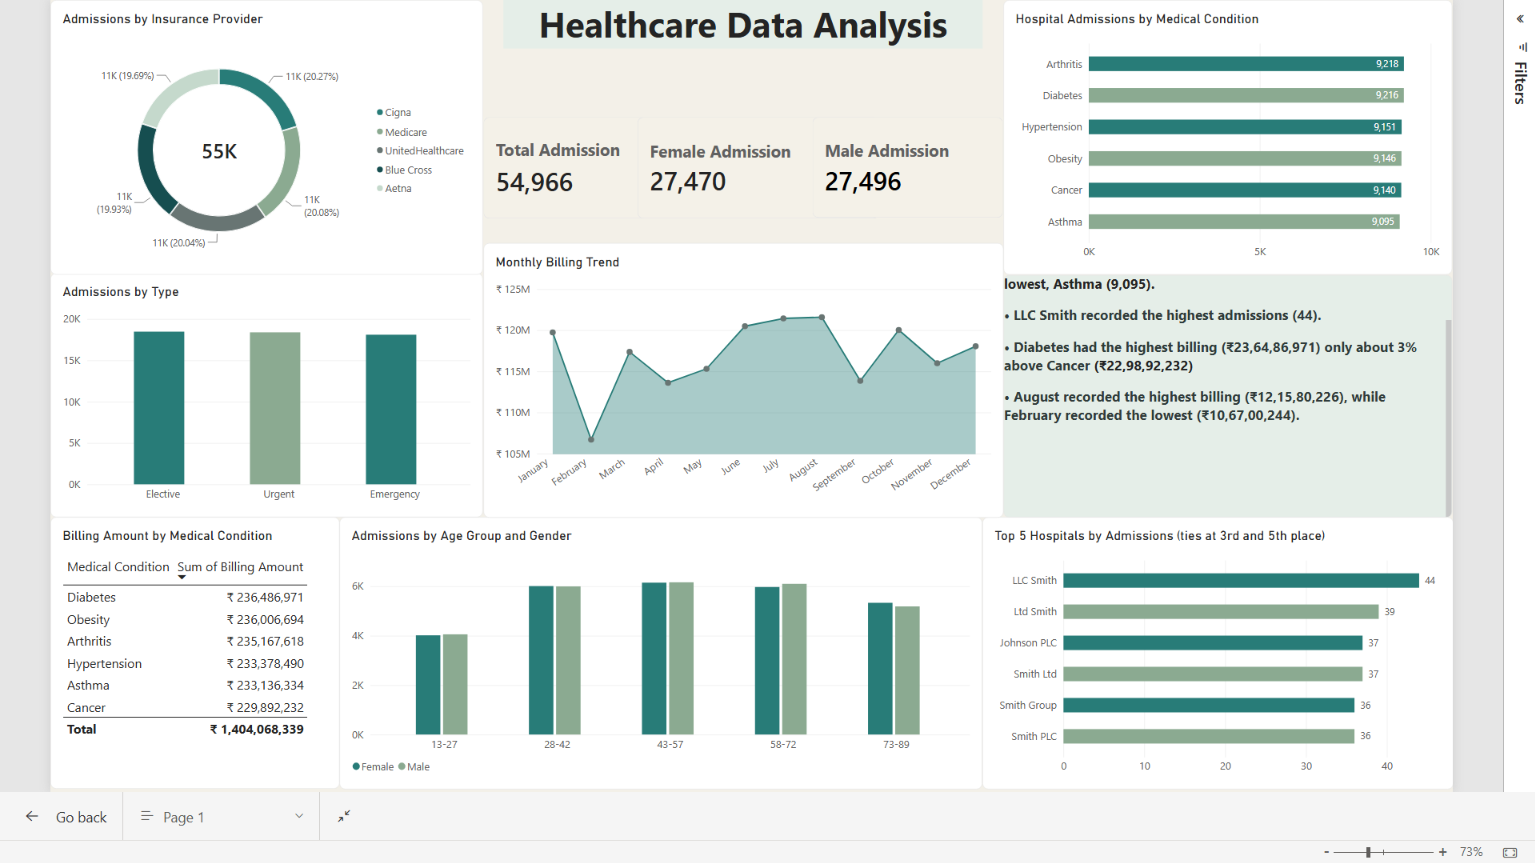

What the dashboard file says about the page in this screenshot:
{"tool":"powerbi","page":{"name":"Page 1","canvas":[1920,1084],"ordinal":0},"visuals":[{"type":"clusteredBarChart","title":"Hospital Admissions by Medical Condition","fields":{"Category":["healthcare_dataset.Medical Condition"],"Y":["healthcare_dataset.Total_Admission"]},"box":[1304.4,0,614,376],"z":0},{"type":"cardVisual","fields":{"Data":["healthcare_dataset.Total_Admission"]},"box":[592,160,225.5,139.7],"z":0,"group":"g1"},{"type":"group","id":"g1","title":"Group 1","box":[592,160,542.4,140],"z":0,"group":"g3"},{"type":"cardVisual","fields":{"Data":["healthcare_dataset.Male Admission"]},"box":[1042.4,160,261.6,138.5],"z":0,"group":"g2"},{"type":"group","id":"g2","title":"Group 1","box":[1042.4,160,261.6,138.5],"z":1000,"group":"g3"},{"type":"cardVisual","fields":{"Data":["healthcare_dataset.Female Admission"]},"box":[803.3,160.2,331.1,139.8],"z":1000,"group":"g1"},{"type":"clusteredColumnChart","title":"Admissions by Age Group and Gender","fields":{"Category":["healthcare_dataset.73-89"],"Series":["healthcare_dataset.Gender"],"Y":["healthcare_dataset.Total_Admission"]},"box":[395,707.5,880,372.5],"z":1000},{"type":"columnChart","title":"Admissions by Type","fields":{"Category":["healthcare_dataset.Admission Type"],"Y":["healthcare_dataset.Total_Admission"]},"box":[0,374,592,334],"z":2000},{"type":"clusteredBarChart","title":"Top 5 Hospitals by Admissions (ties at 3rd and 5th place)","fields":{"Category":["healthcare_dataset.Hospital"],"Y":["healthcare_dataset.Total_Admission"]},"box":[1275,707.5,645,372.5],"z":3000},{"type":"tableEx","title":"Billing Amount by Medical Condition","fields":{"Values":["healthcare_dataset.Medical Condition","Sum(healthcare_dataset.Billing Amount)"]},"box":[0,708,396,372],"z":4000},{"type":"donutChart","title":"Admissions by Insurance Provider","fields":{"Category":["healthcare_dataset.Insurance Provider"],"Y":["healthcare_dataset.Total_Admission"]},"box":[0,0,592,376],"z":5000},{"type":"lineChart","title":"Monthly Billing Trend","fields":{"Category":["healthcare_dataset.Date of Admission.Variation.Date Hierarchy.Month"],"Y":["Sum(healthcare_dataset.Billing Amount)"]},"box":[592,332,712,376],"z":6000},{"type":"group","id":"g3","title":"Group 2","box":[592,160,712,140],"z":7000},{"type":"textbox","box":[620,0,656,66],"z":8000},{"type":"textbox","box":[1304,376,614,332],"z":9000}]}

Visuals, with their boxes on the page's 1920x1084 design canvas (x1, y1, x2, y2). These are canvas units, not pixel positions in the 1535x863 screenshot, which may show the page scaled, cropped or inside an application window:
"Hospital Admissions by Medical Condition" clusteredBarChart: l=1304, t=0, r=1918, b=376
cardVisual - healthcare_dataset.Total_Admission: l=592, t=160, r=818, b=300
"Group 1" group: l=592, t=160, r=1134, b=300
cardVisual - healthcare_dataset.Male Admission: l=1042, t=160, r=1304, b=298
"Group 1" group: l=1042, t=160, r=1304, b=298
cardVisual - healthcare_dataset.Female Admission: l=803, t=160, r=1134, b=300
"Admissions by Age Group and Gender" clusteredColumnChart: l=395, t=708, r=1275, b=1080
"Admissions by Type" columnChart: l=0, t=374, r=592, b=708
"Top 5 Hospitals by Admissions (ties at 3rd and 5th place)" clusteredBarChart: l=1275, t=708, r=1920, b=1080
"Billing Amount by Medical Condition" tableEx: l=0, t=708, r=396, b=1080
"Admissions by Insurance Provider" donutChart: l=0, t=0, r=592, b=376
"Monthly Billing Trend" lineChart: l=592, t=332, r=1304, b=708
"Group 2" group: l=592, t=160, r=1304, b=300
textbox: l=620, t=0, r=1276, b=66
textbox: l=1304, t=376, r=1918, b=708
